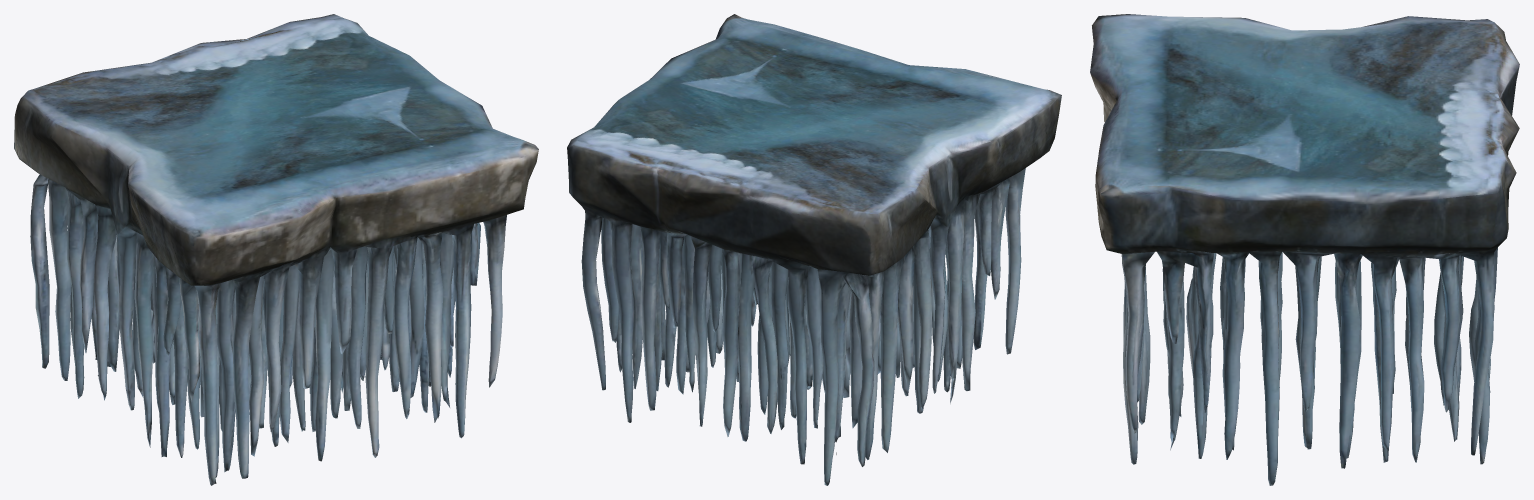
The picture shows the model from 3 angles, left to right: view 1: azimuth 30°, elevation 25°; view 2: azimuth 150°, elevation 25°; view 3: azimuth 270°, elevation 25°; orthographic projection. The views are drawn at different scales.
Bounding box in the file's own units: 1.98 × 1.63 × 1.95.
Materials: 1 (1 with a texture image).
